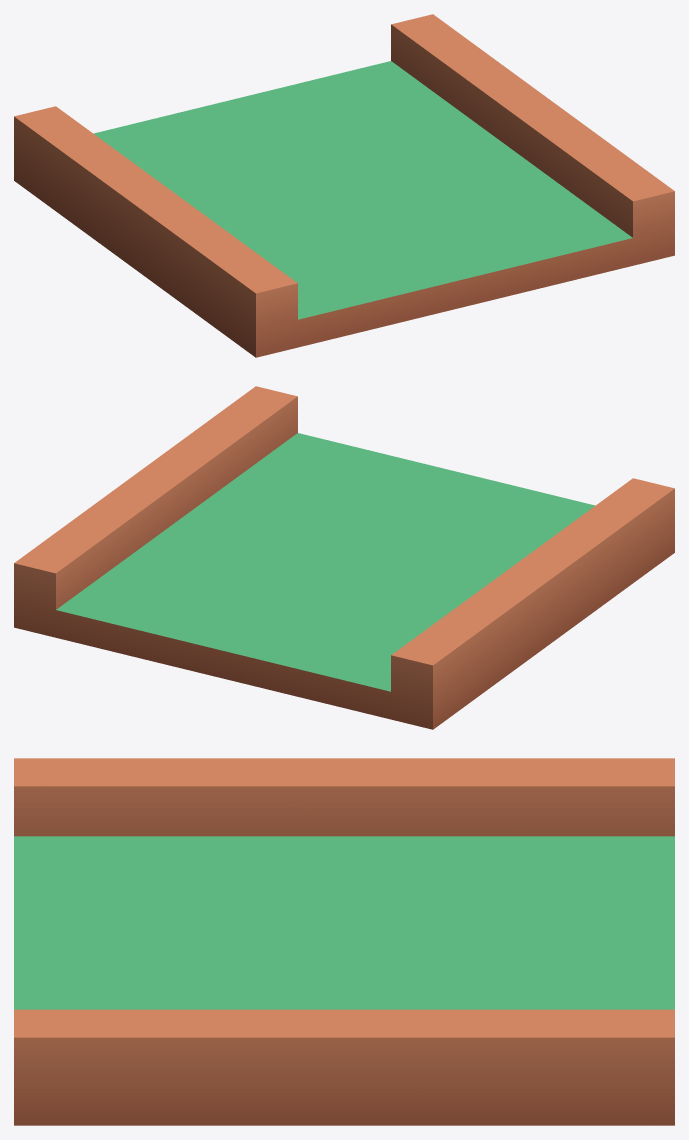
Rendered from straight.glb.
The picture shows the model from 3 angles, top to bottom: view 1: azimuth 30°, elevation 25°; view 2: azimuth 150°, elevation 25°; view 3: azimuth 270°, elevation 25°; orthographic projection. The views are drawn at different scales.
Parts seen in each view (by area): view 1: straight; view 2: straight; view 3: straight.
Boxes of the visible parts, left/top/right/bottom form: straight: left=14, top=14, right=674, bottom=357; straight: left=14, top=386, right=674, bottom=729; straight: left=14, top=758, right=674, bottom=1125.
Bounding box in the file's own units: 0.9999 × 0.1467 × 0.9999.
1 material, 1 textured.
